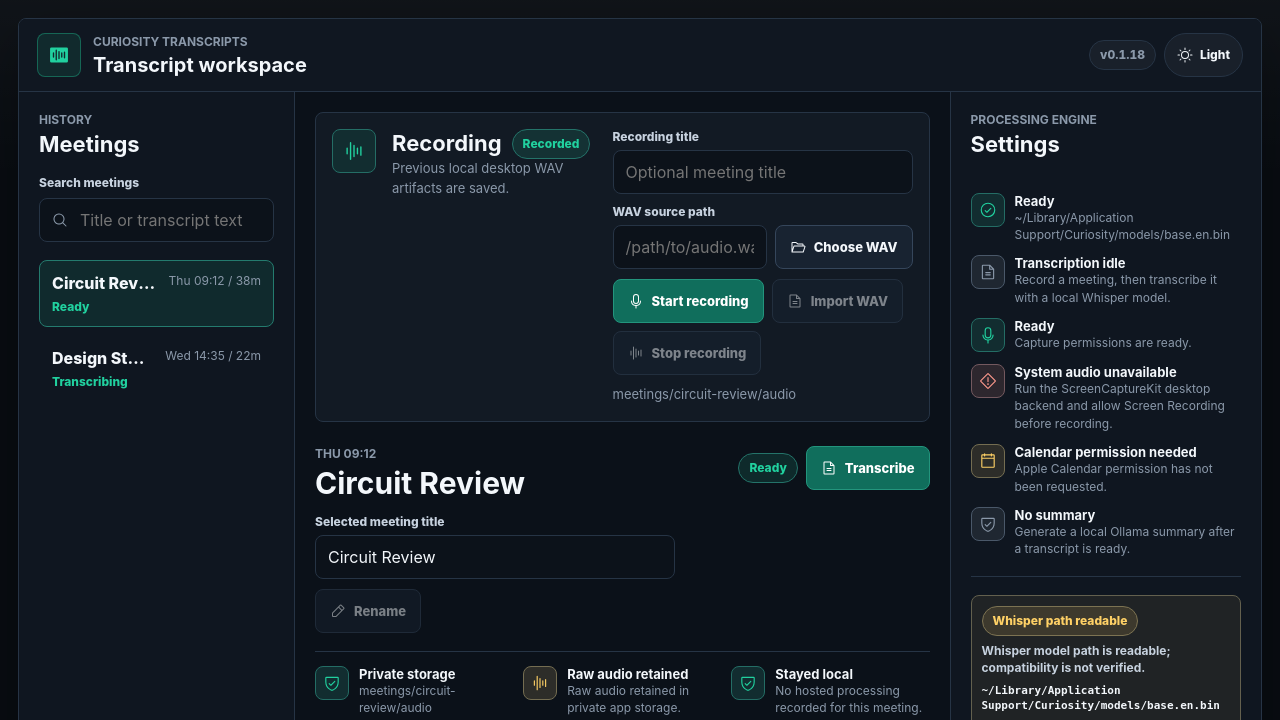
Test: desktop workspace shell › uses a scoped single-file WAV native picker by default
Click the button "Choose WAV" at (844, 247), box top-left (775, 225), bottom-right (912, 269)
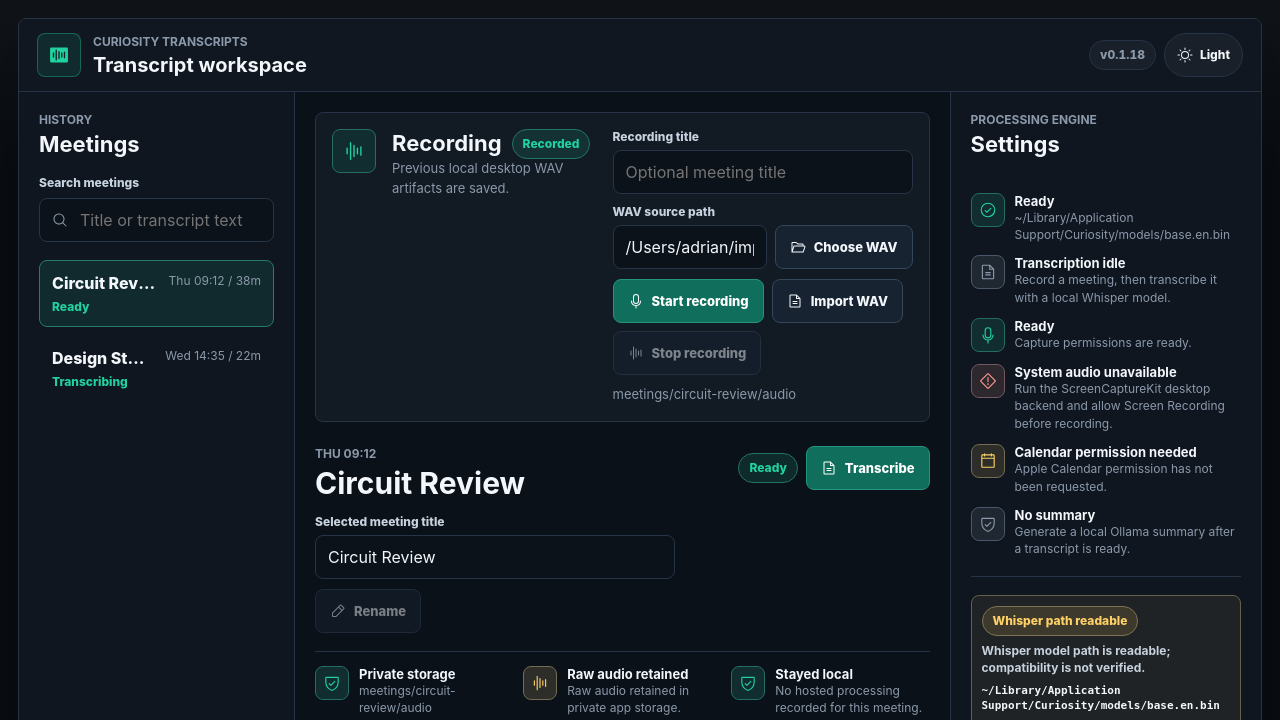
Check: the field labelled "WAV source path" holds "/Users/adrian/imports/default-picker.wav", box top-left (612, 225), bottom-right (767, 269)
